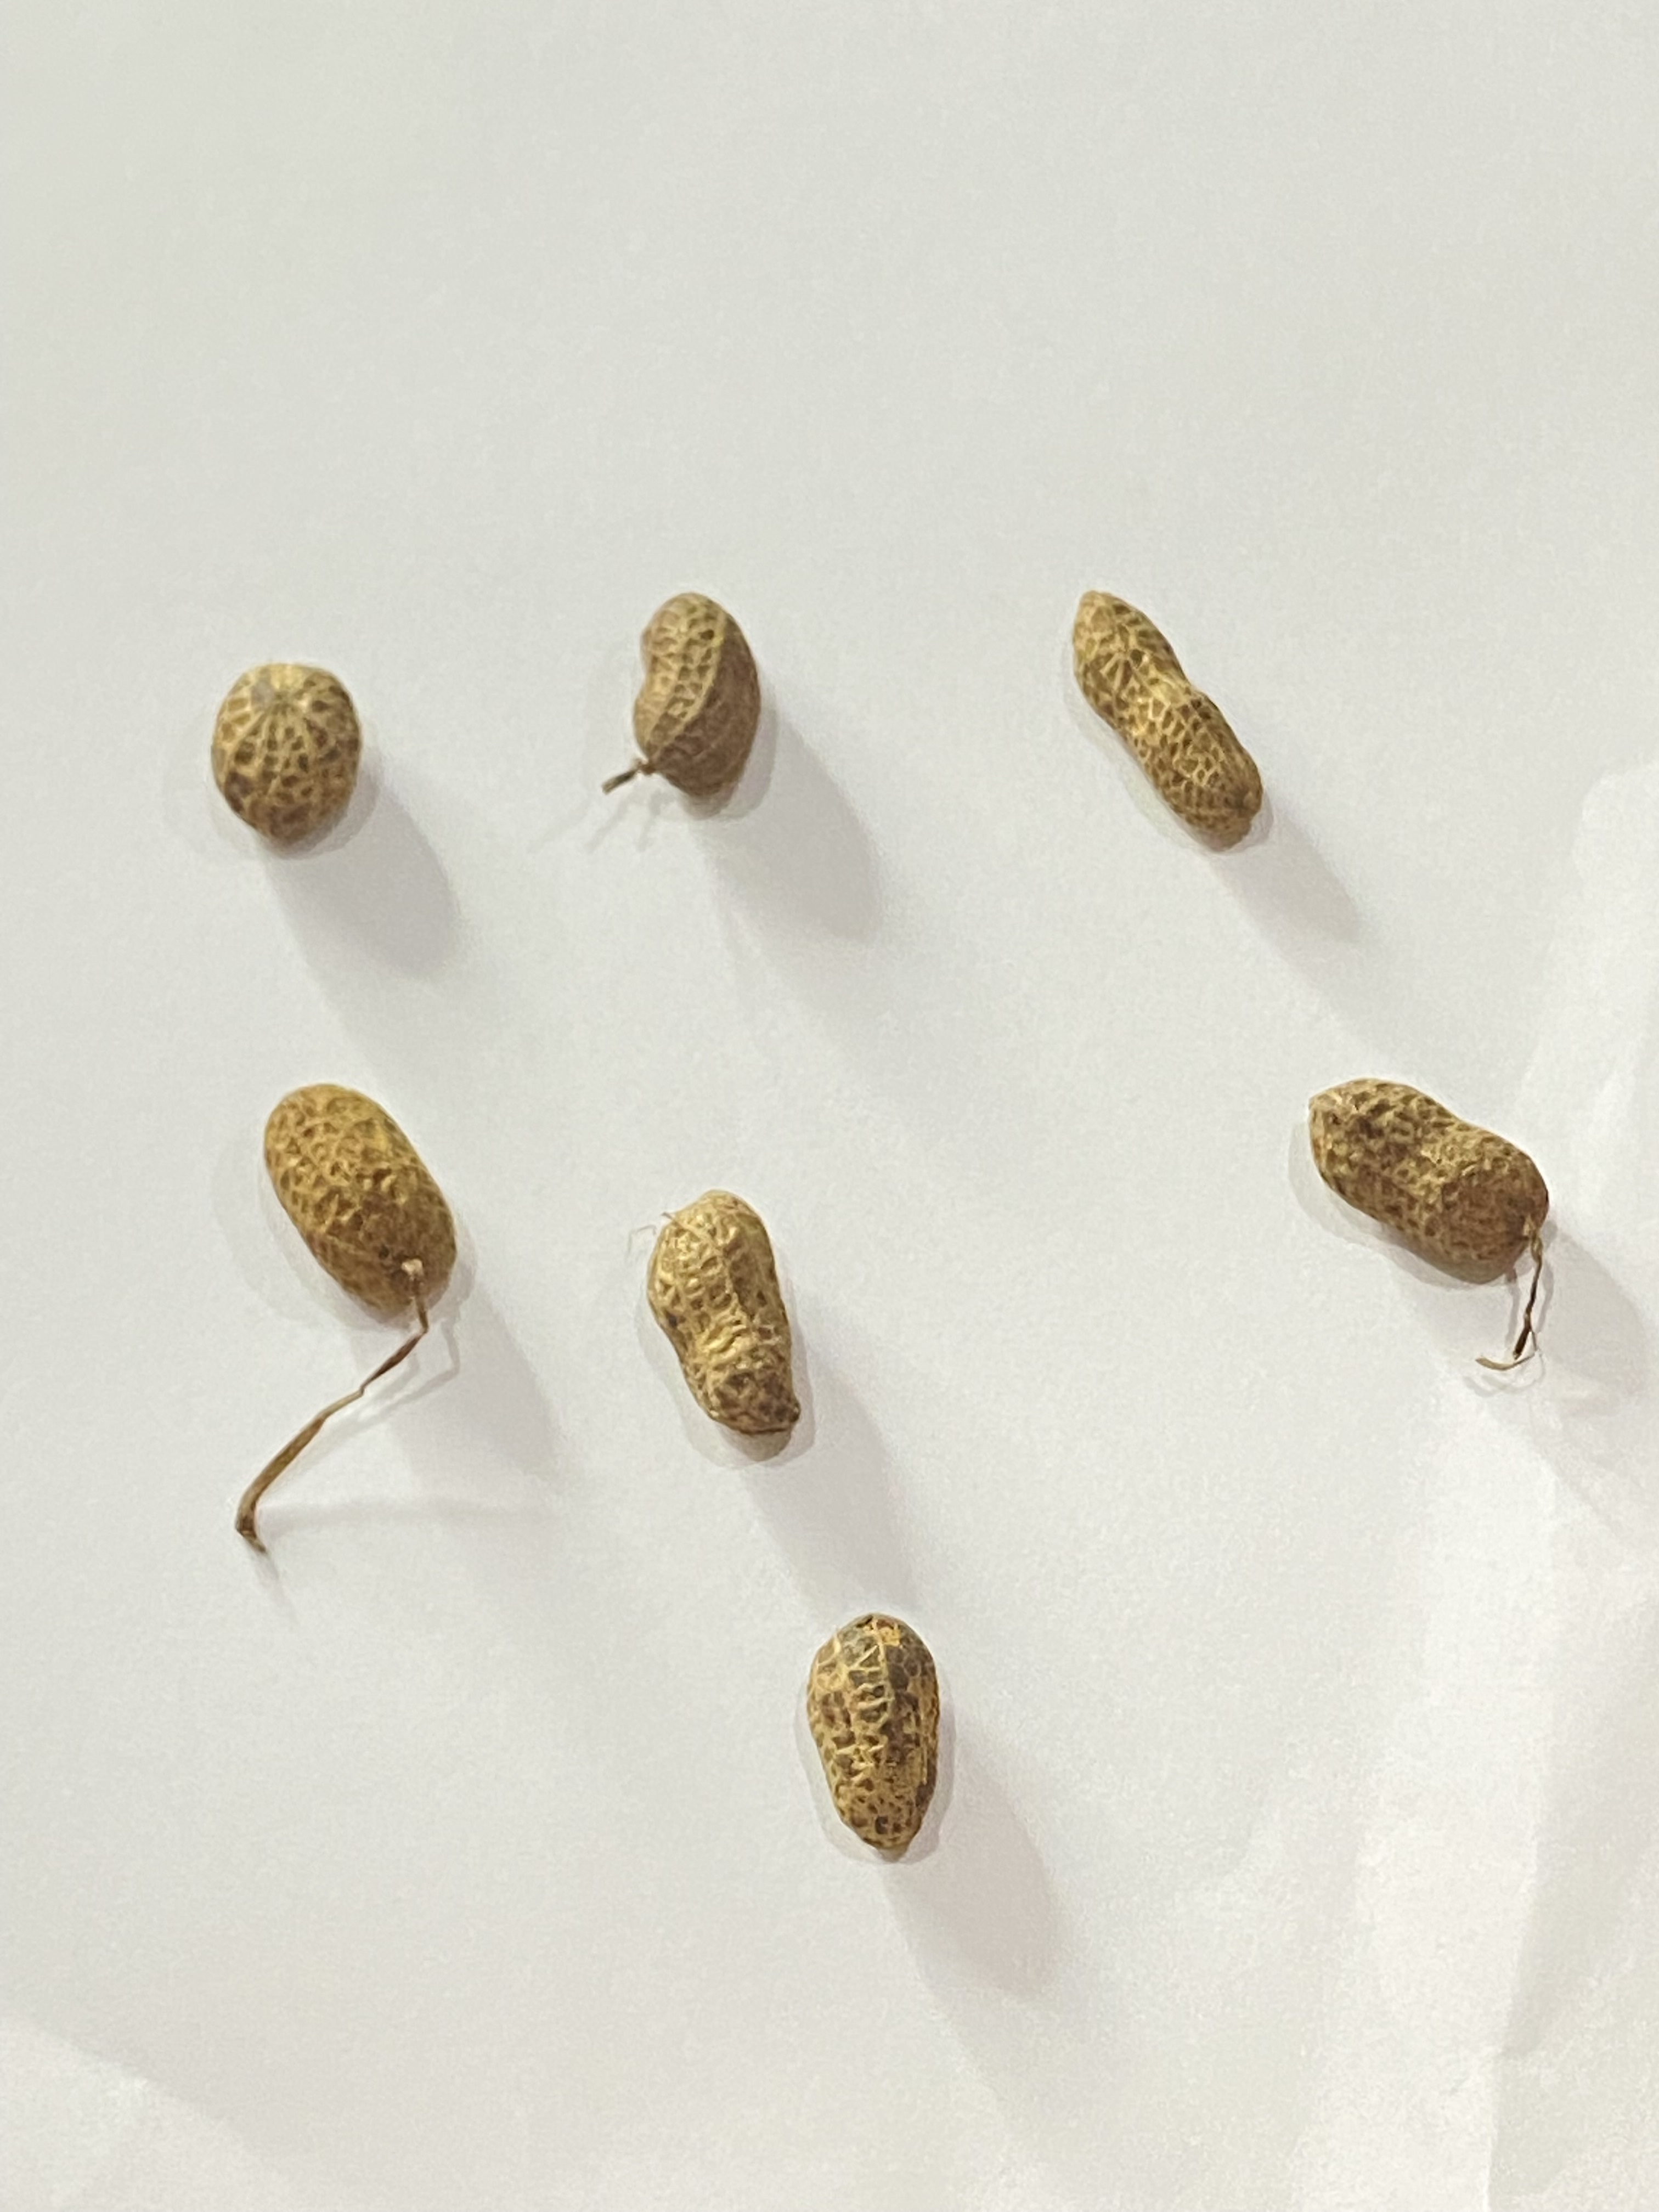kacang1: (197, 660, 385, 841)
kacang2: (762, 1594, 1018, 1872), (213, 1073, 481, 1310), (1258, 1071, 1556, 1282), (613, 1186, 849, 1446), (612, 583, 765, 798)
kacang3: (1046, 583, 1286, 848)
